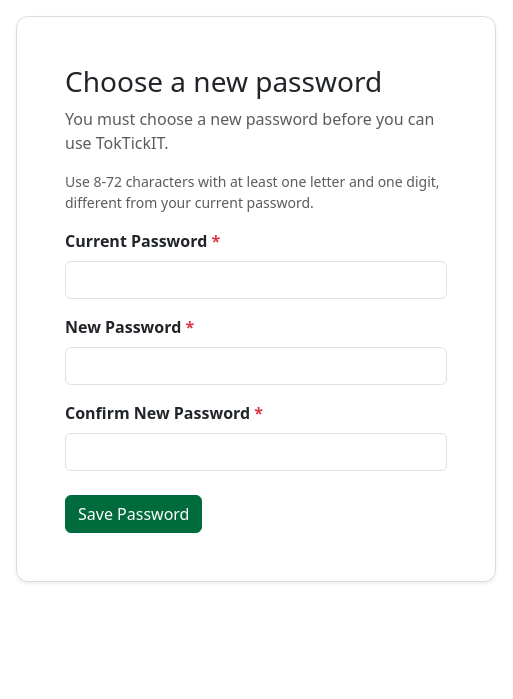
Test: Change Password › shows a safe message when saving fails
Type "ChangeMe123" into the password field labelled "Current Password *" at x=256, y=280, box left=65, top=261, right=447, bottom=299
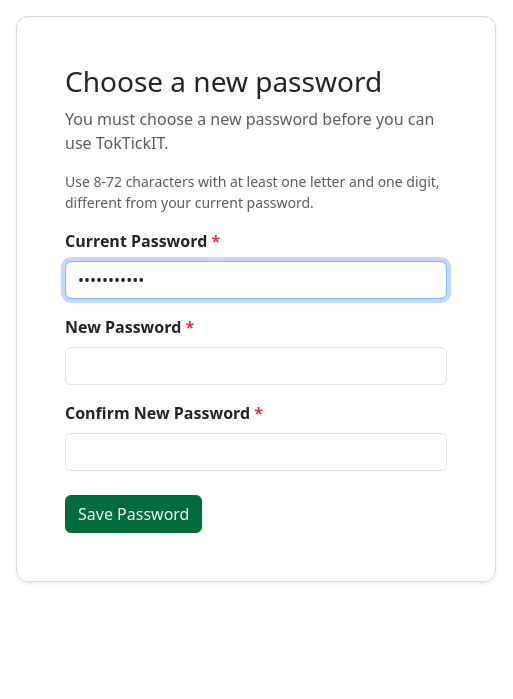
Type "Sunrise2026" into the password field labelled "New Password *" at x=256, y=366, box left=65, top=347, right=447, bottom=385
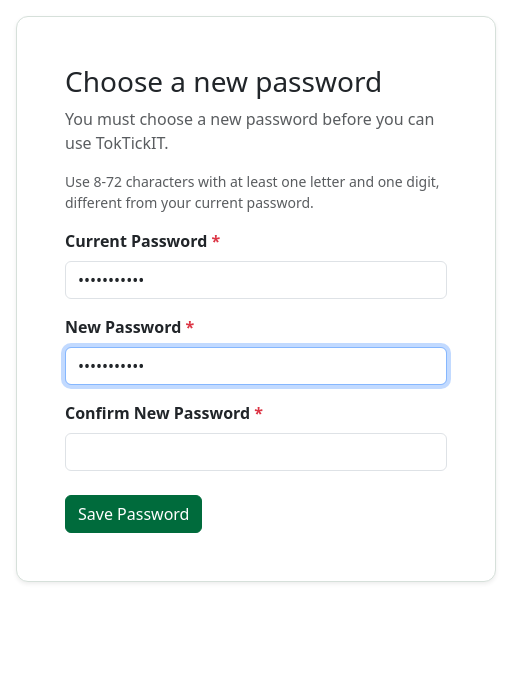
Type "Sunrise2026" into the password field labelled "Confirm New Password *" at x=256, y=452, box left=65, top=433, right=447, bottom=471
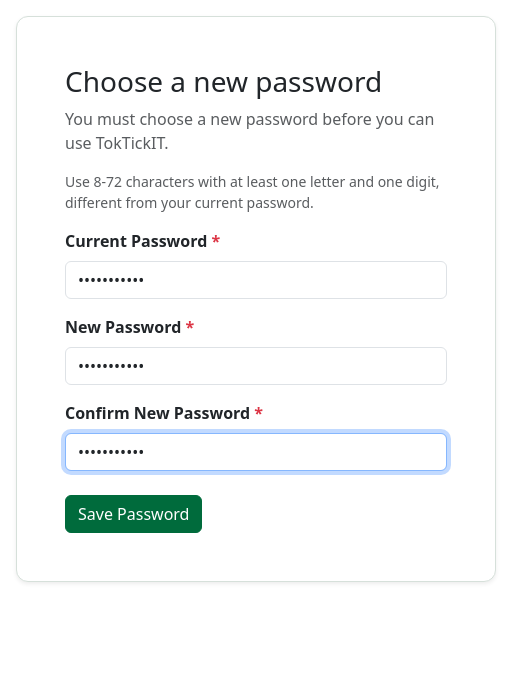
Click the button "Save Password" at x=134, y=514, box left=65, top=495, right=202, bottom=533
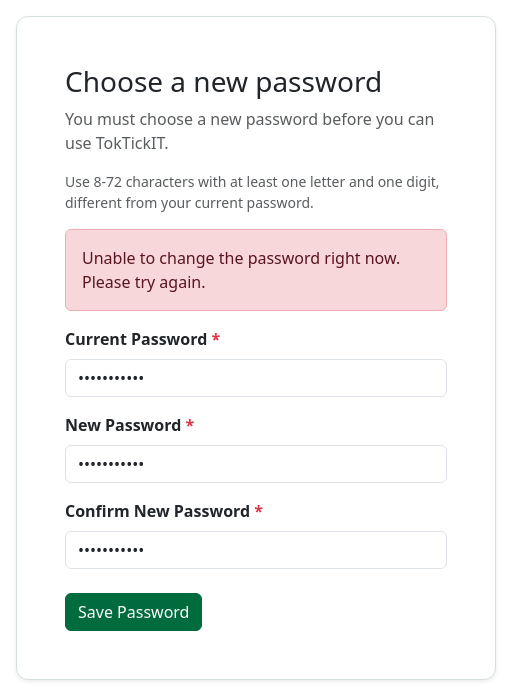
expect the message shows "Unable to change the password right now": met, box left=82, top=247, right=400, bottom=293
